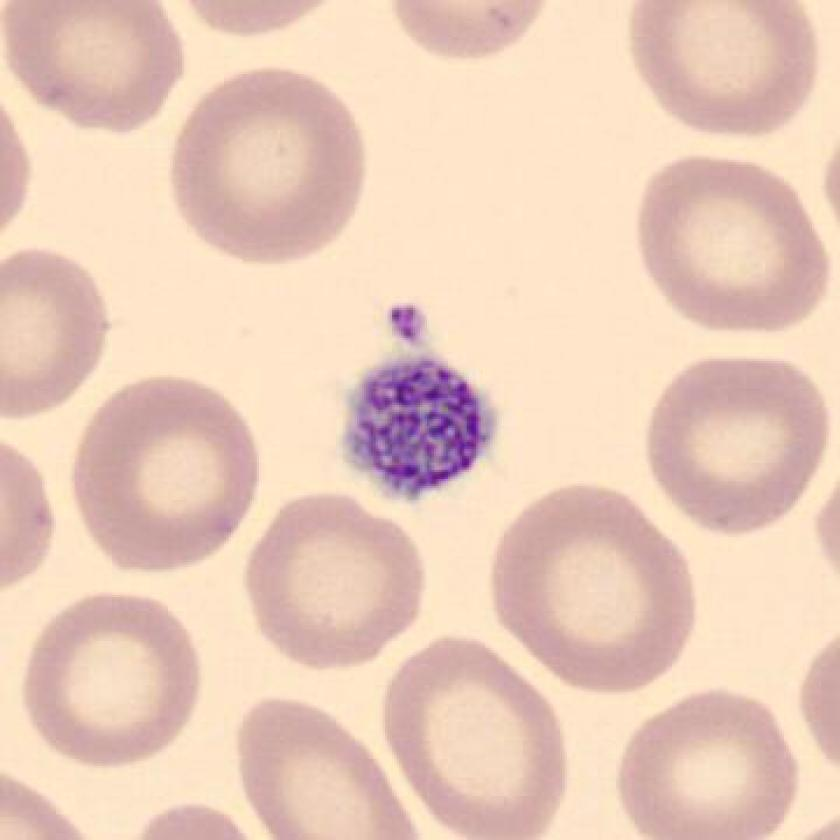platelets: (337, 348, 498, 506)
